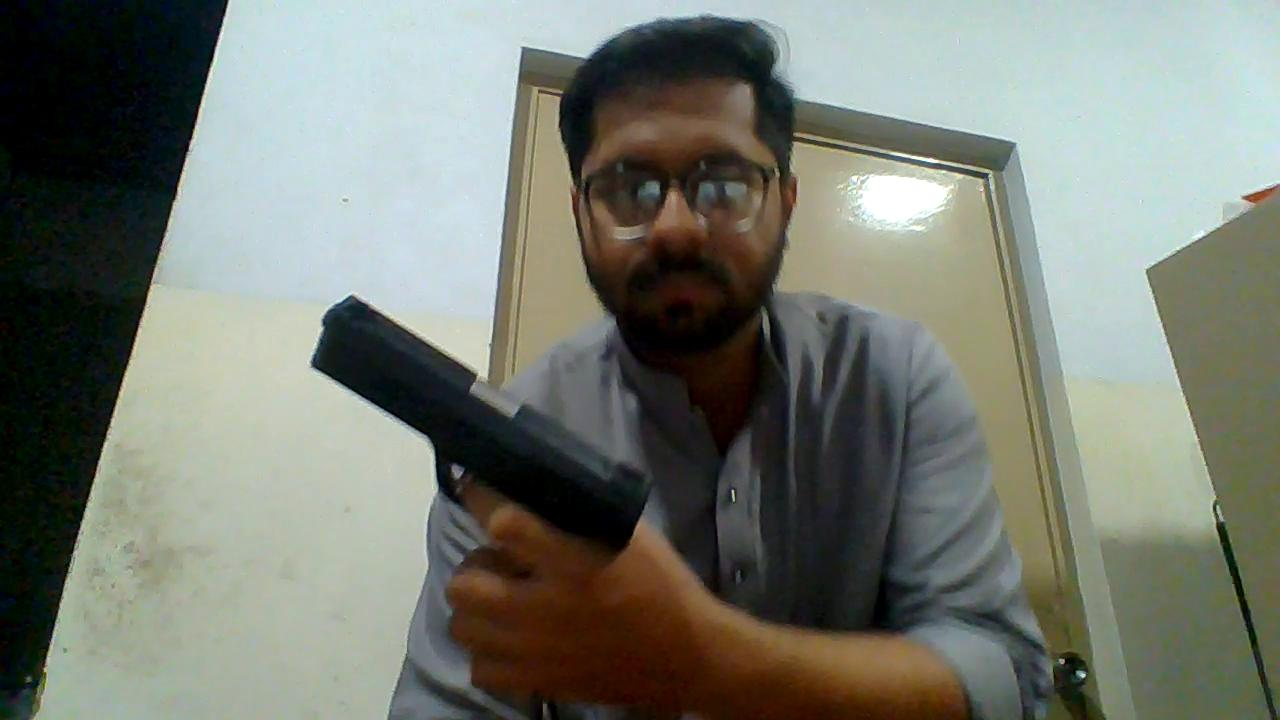criminal: (310, 13, 1058, 720)
